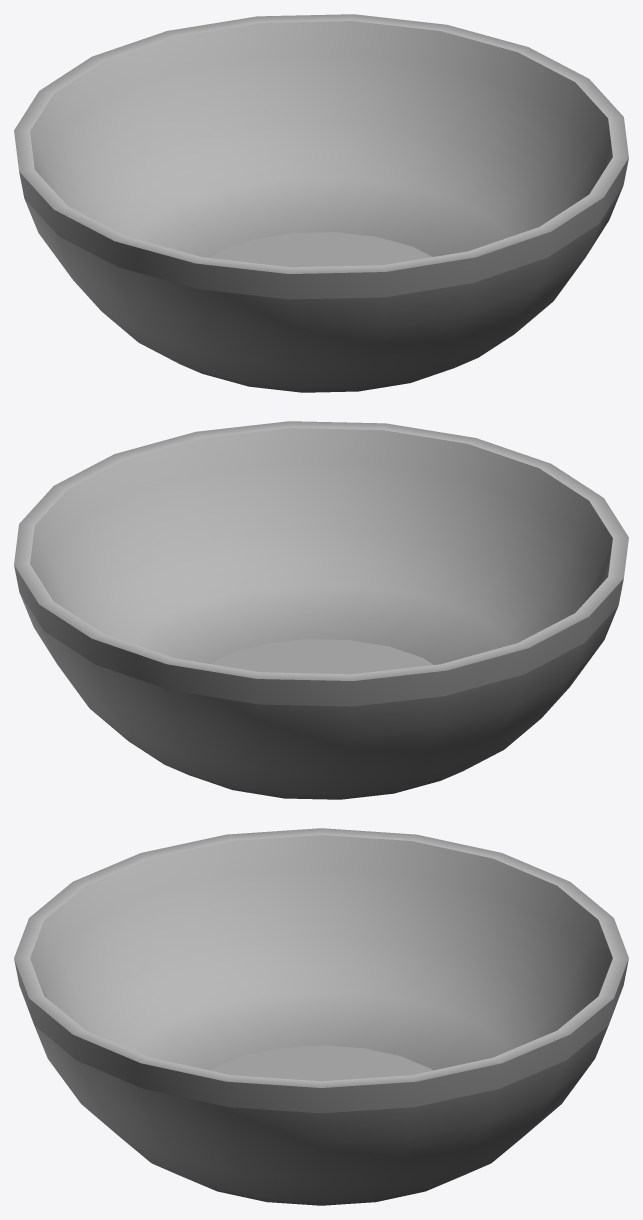
The model's file is bowl.fbx.
The picture shows the model from 3 angles, top to bottom: view 1: azimuth 30°, elevation 25°; view 2: azimuth 150°, elevation 25°; view 3: azimuth 270°, elevation 25°; orthographic projection.
Parts seen in each view (by area): view 1: bowl; view 2: bowl; view 3: bowl.
Boxes of the visible parts, x1=… form: bowl: x1=14, y1=14, x2=628, y2=392; bowl: x1=14, y1=421, x2=628, y2=799; bowl: x1=14, y1=828, x2=628, y2=1205.
Size of the model in its own units: 0.2224 by 0.0689 by 0.2224.
